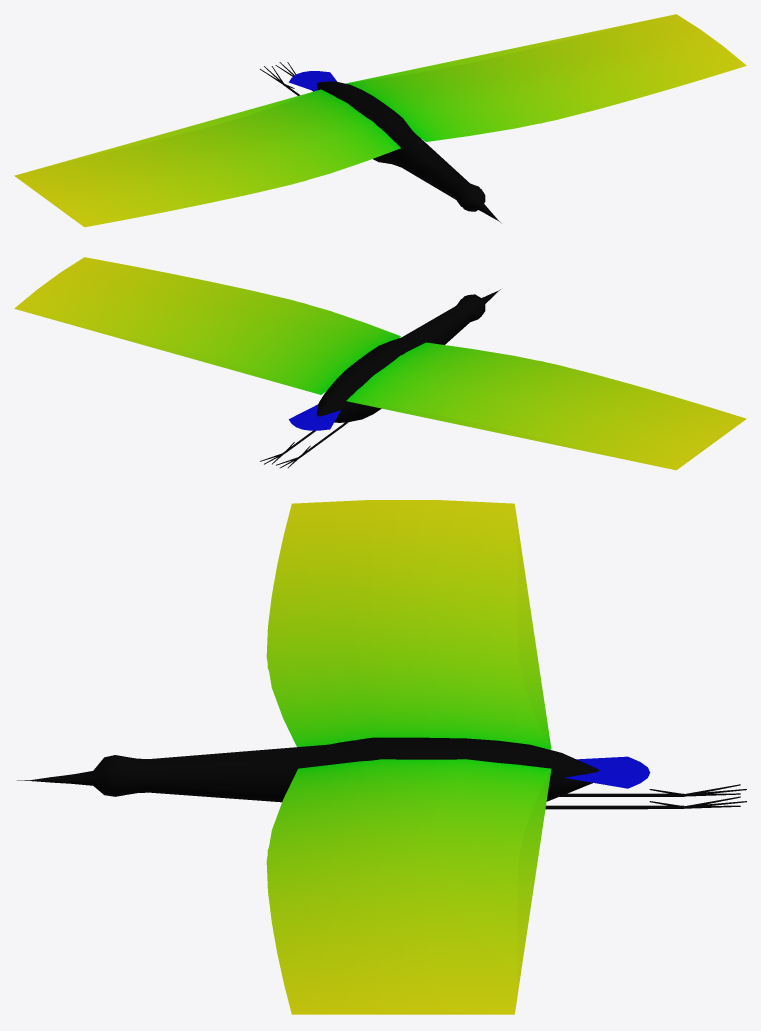
Rendered from crane.glb.
3 views of the same model, one above another, from view 1: azimuth 30°, elevation 25°; view 2: azimuth 150°, elevation 25°; view 3: azimuth 270°, elevation 25° (orthographic). The views are drawn at different scales.
Parts seen in each view (by area): view 1: fly0, fly2, fly1; view 2: fly0, fly2, fly1; view 3: fly0, fly1, fly2.
Boxes of the visible parts, <box> form: fly0: <box>14,14,746,227</box>; fly2: <box>20,15,670,223</box>; fly1: <box>16,43,553,225</box>; fly0: <box>14,257,746,470</box>; fly2: <box>21,289,736,468</box>; fly1: <box>241,290,744,467</box>; fly0: <box>29,500,746,1014</box>; fly1: <box>31,585,684,1014</box>; fly2: <box>17,506,600,1013</box>.
Bounding box in the file's own units: 2.1 × 0.1518 × 1.27.
